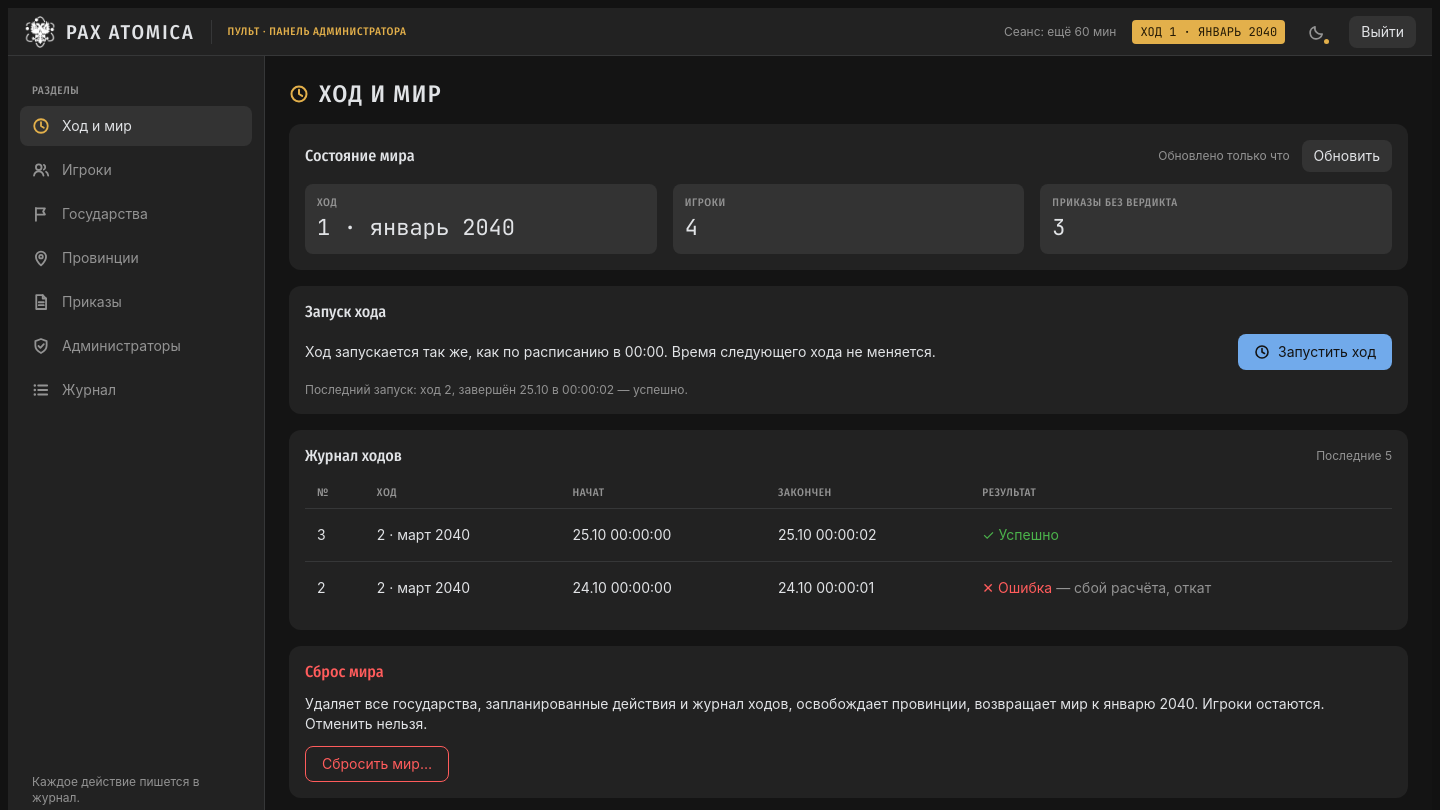
Test: with reset allowed the confirm stays disabled until «СБРОС» exactly
Click the button with test id "open-reset".
click(377, 764)  # box [305,746,449,782]
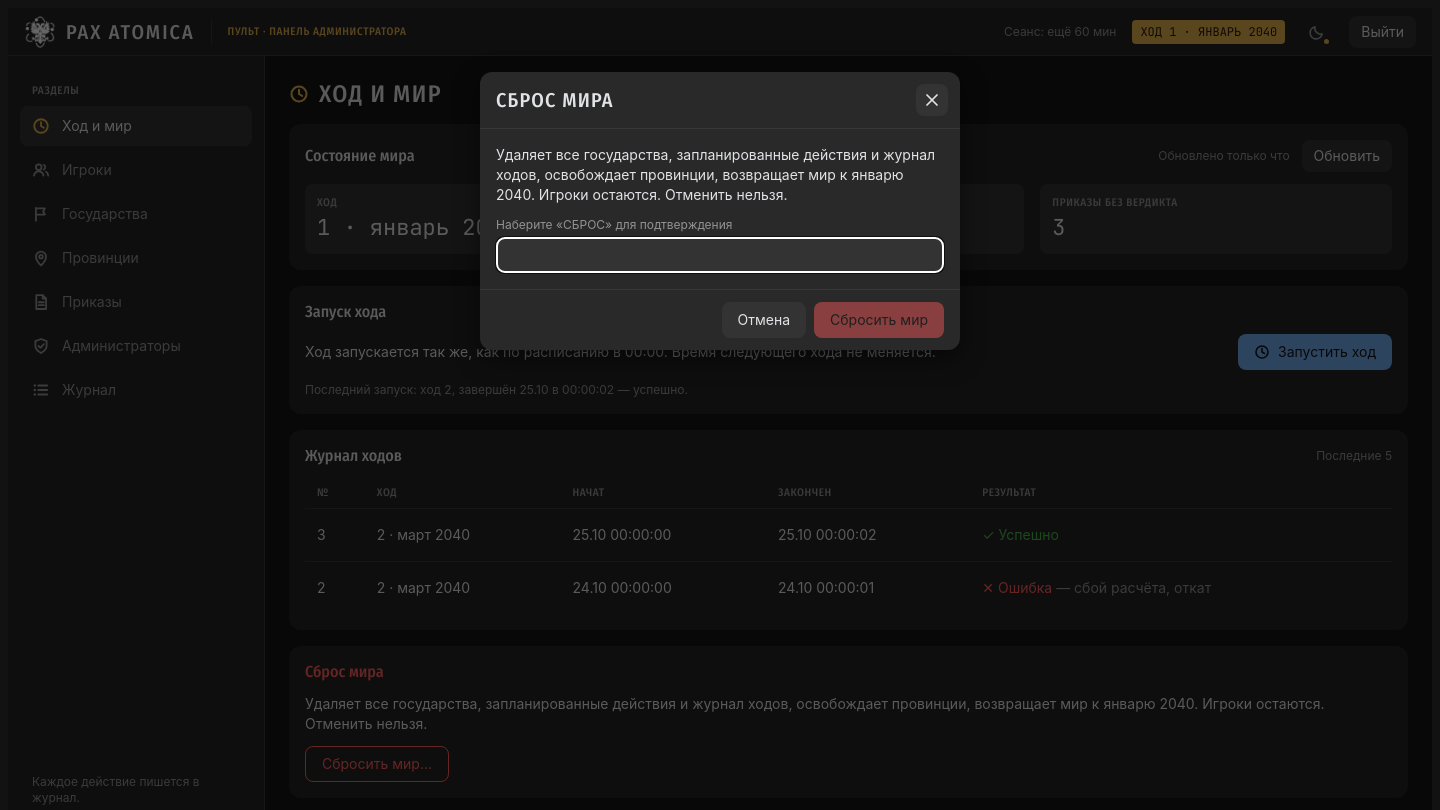
Now the dialog with test id "reset-popup" is shown, box [480,72,960,350]
Now the button with test id "confirm-reset" is disabled, box [814,302,944,338]
Note: Wrong case never unlocks it.
Type "сброс" into the field labelled "Наберите «СБРОС» для подтверждения".
click(720, 255); type("сброс")  # box [496,237,944,273]
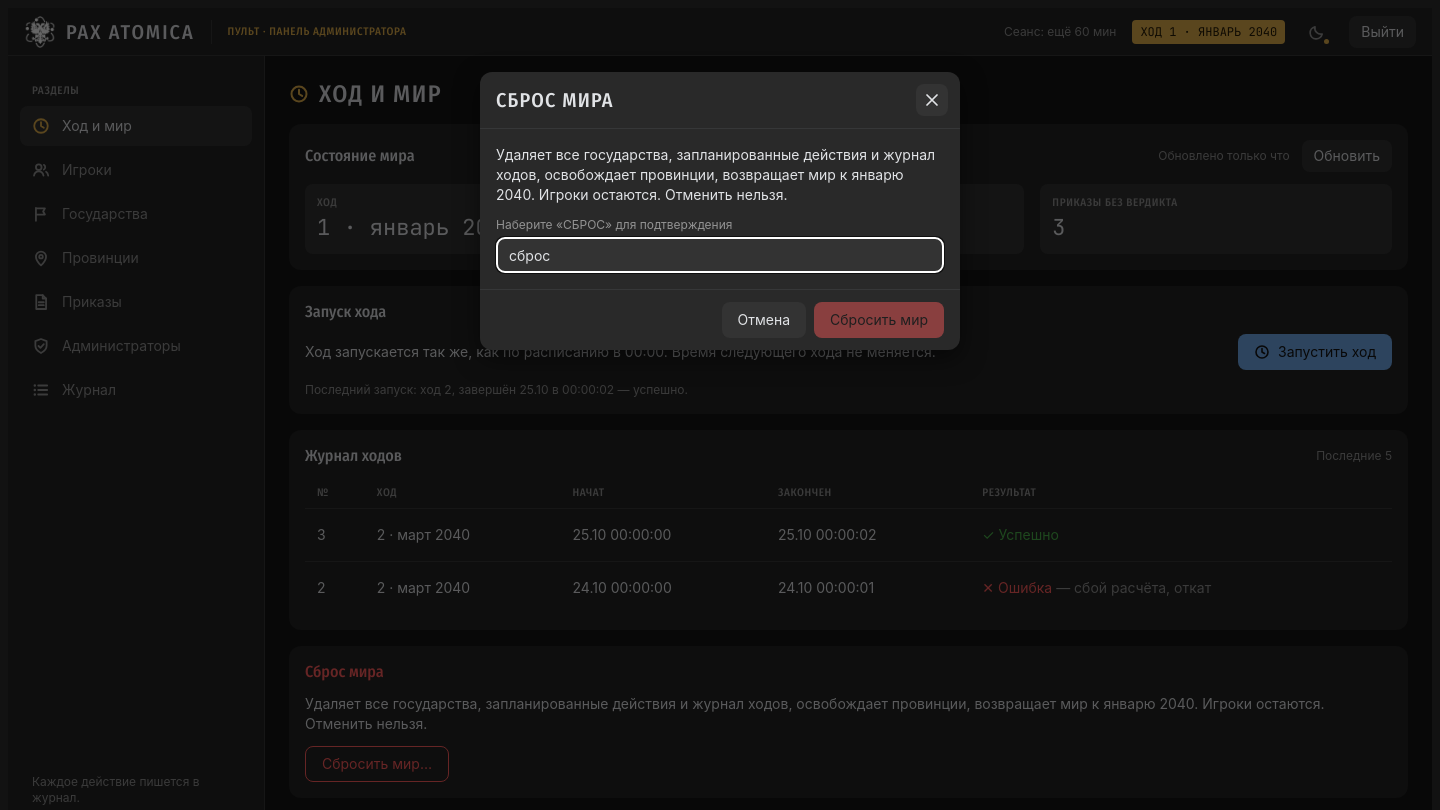
Now the button with test id "confirm-reset" is disabled, box [814,302,944,338]
Replace the text in the field labelled "Наберите «СБРОС» для подтверждения" with "СБРОС" at (720, 255), box [496,237,944,273]
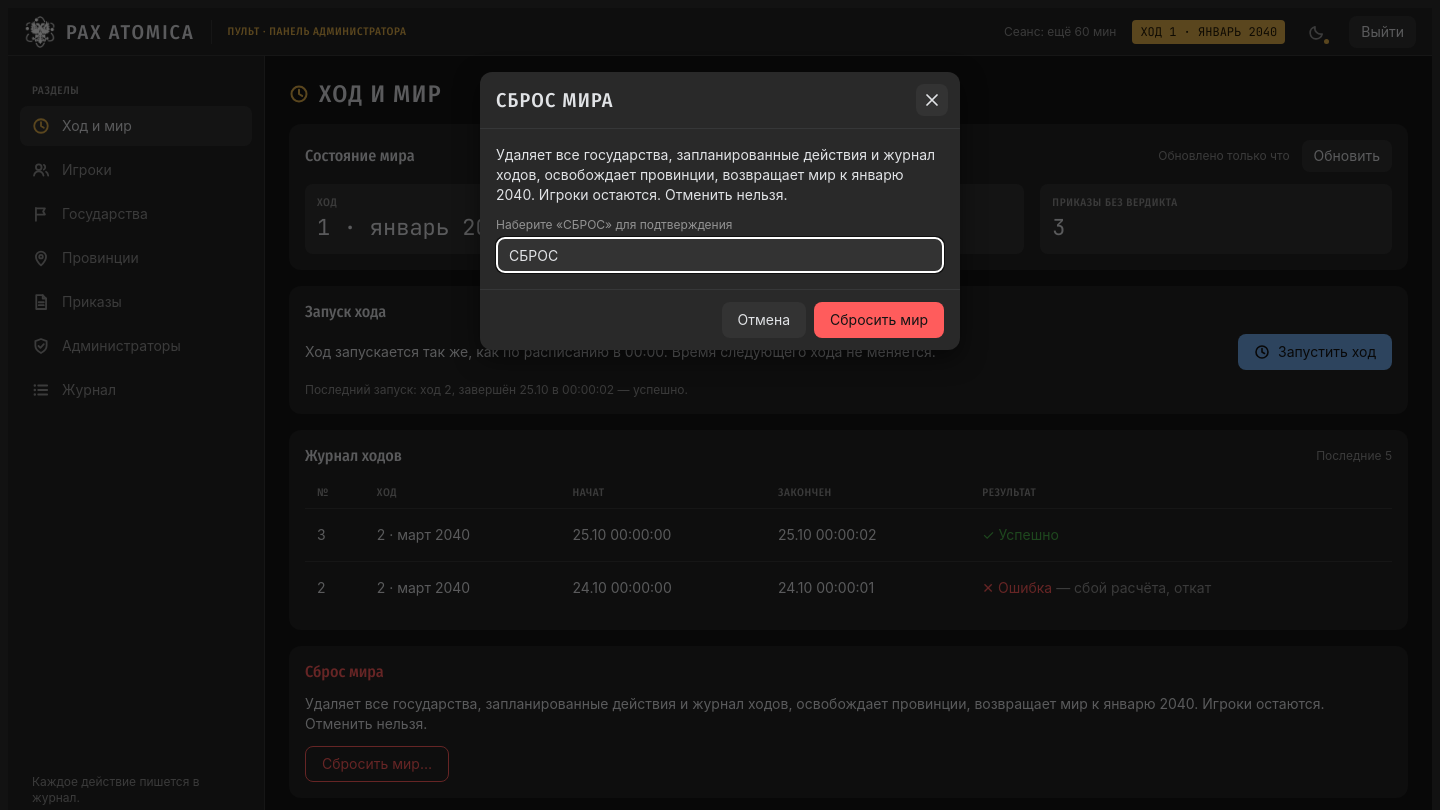
Now the button with test id "confirm-reset" is enabled
Click the button with test id "confirm-reset".
click(879, 320)  # box [814,302,944,338]
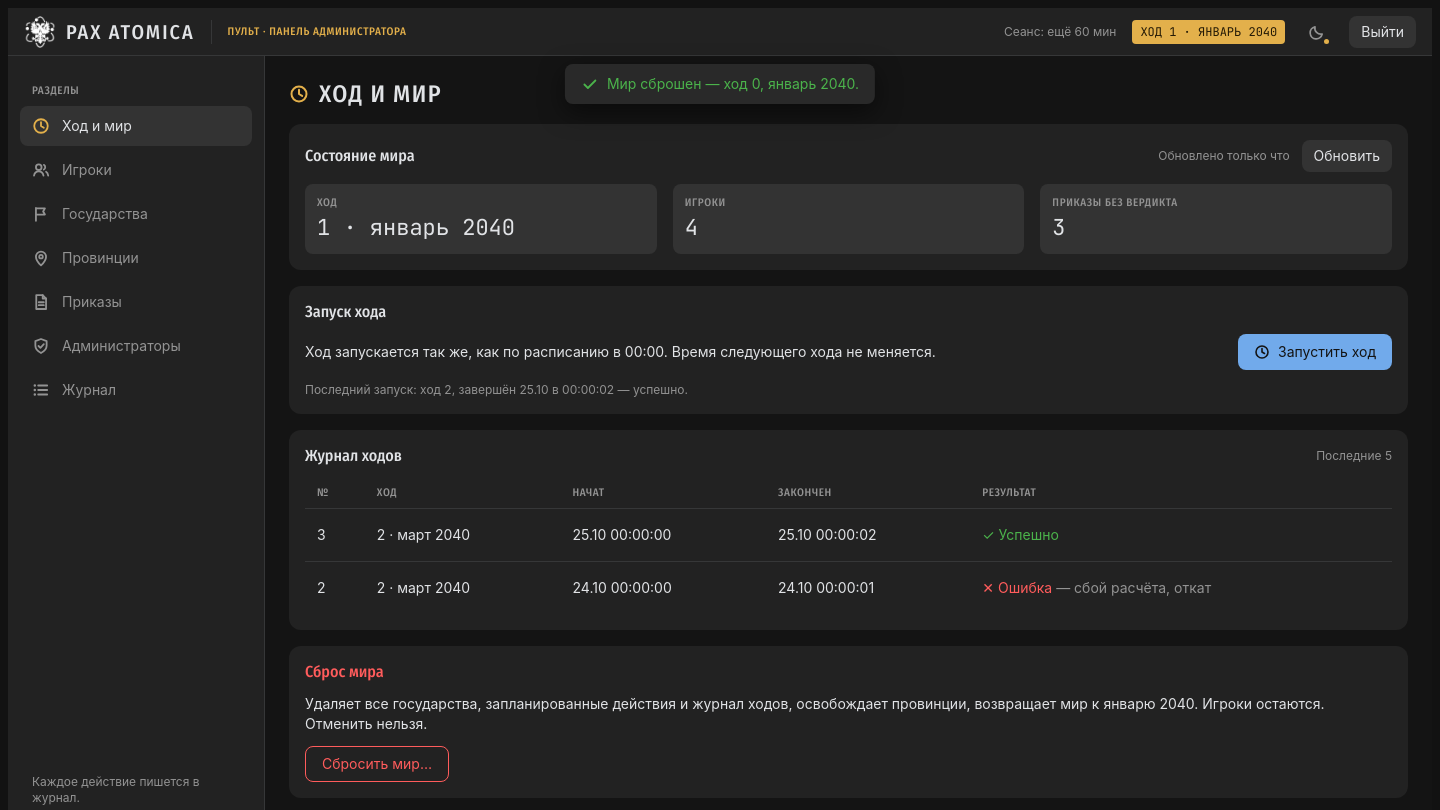
Now the dialog with test id "reset-popup" is gone
